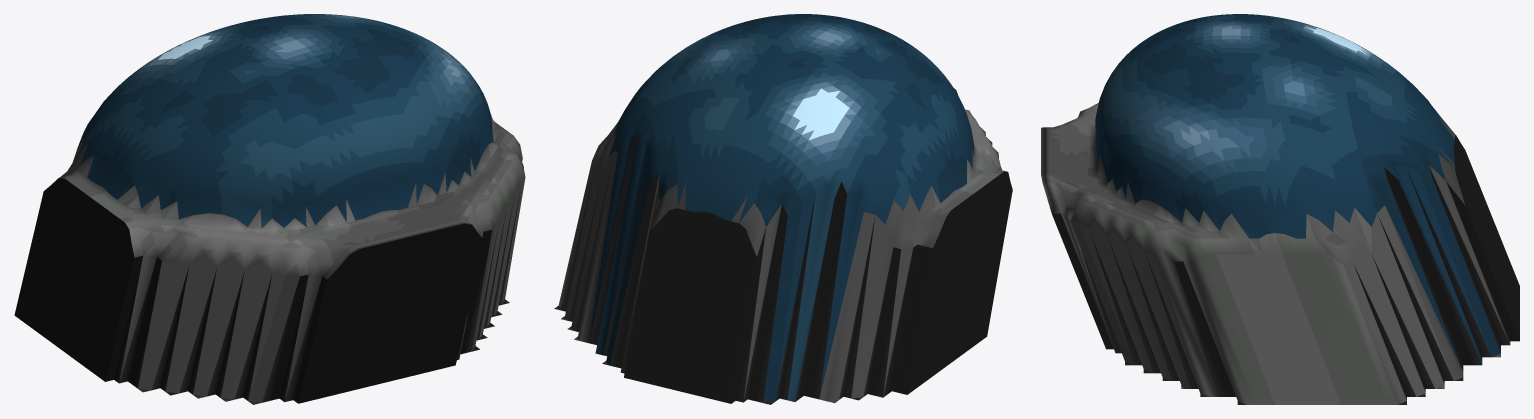
The model's file is crater_dome.glb.
3 renders of one model, left to right at view 1: azimuth 30°, elevation 25°; view 2: azimuth 150°, elevation 25°; view 3: azimuth 270°, elevation 25°, orthographic. The views are drawn at different scales.
Visible parts, largest first — view 1: crater_dome; view 2: crater_dome; view 3: crater_dome.
Part boxes in pixels (left/top/right/bottom): crater_dome: left=14, top=14, right=525, bottom=404; crater_dome: left=554, top=14, right=1012, bottom=404; crater_dome: left=1041, top=14, right=1519, bottom=404.
Bounding box in the file's own units: 23 × 16.1 × 25.46.
